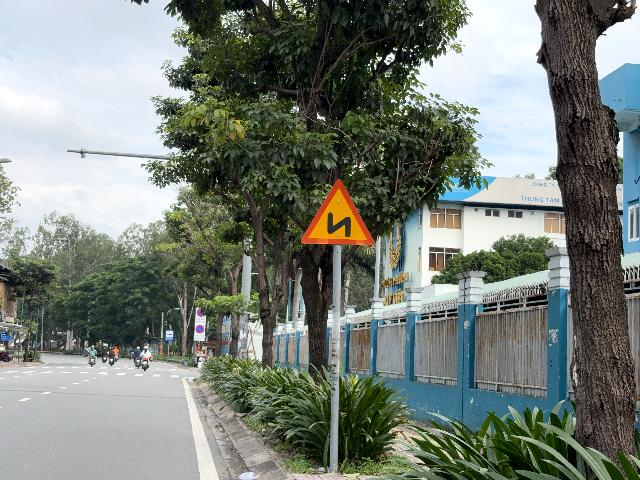nhieu-cho-ngoat-nguy-hiem-lien-tiep: (301, 178, 375, 246)
